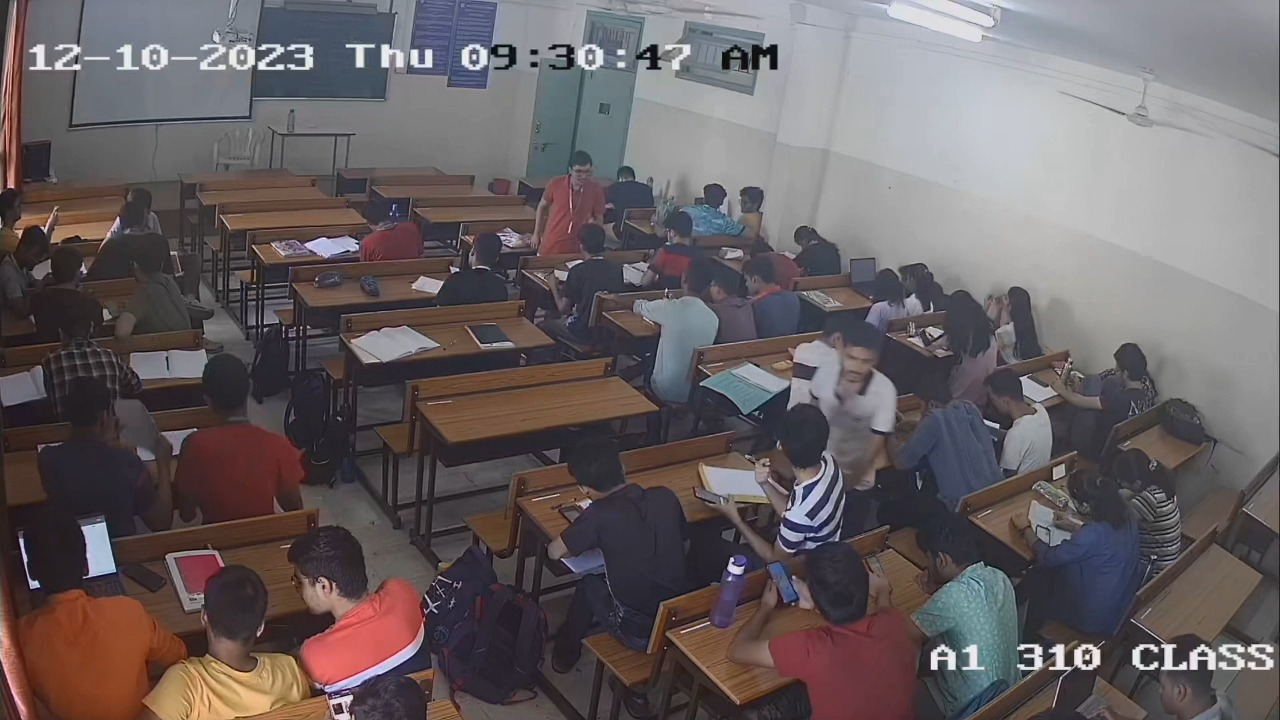cell-phones: (763, 558, 802, 606), (118, 559, 170, 593), (691, 483, 730, 508), (863, 551, 884, 577), (1025, 373, 1050, 389), (1049, 461, 1068, 482)
person: (11, 505, 170, 702), (737, 546, 917, 720), (1020, 466, 1139, 593), (908, 511, 1022, 638), (750, 402, 846, 540), (1079, 342, 1150, 414)
